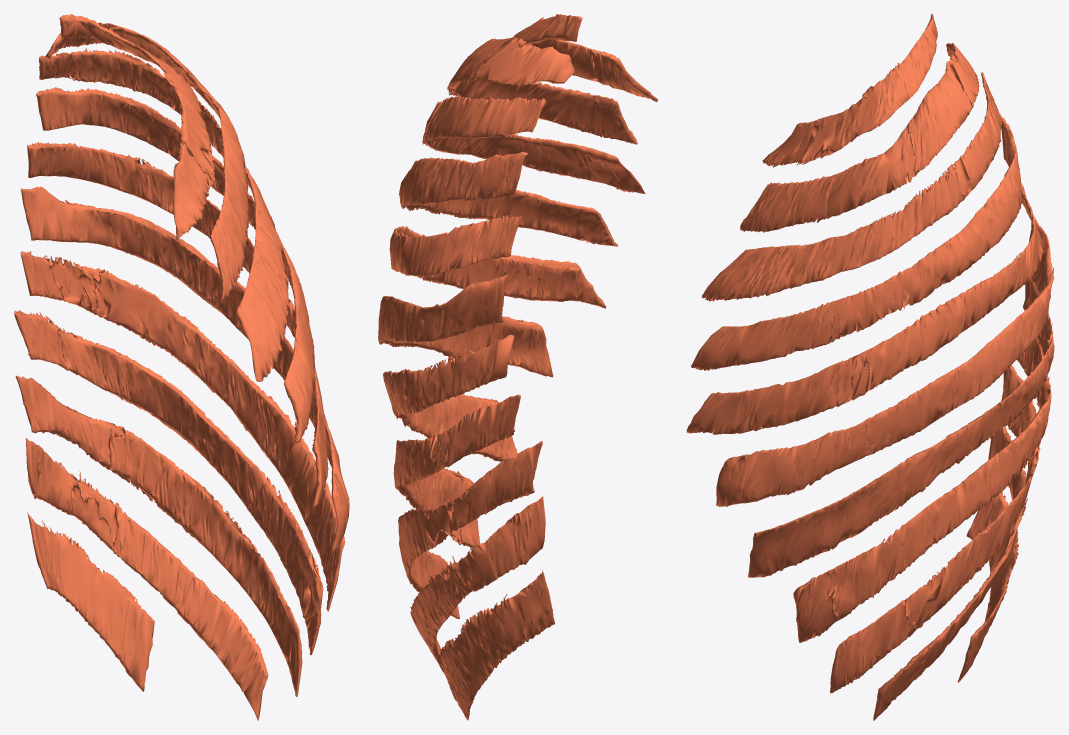
Rendered from External_intercostal_muscles.l_Generated_Mesh_From_X3D.879.glb.
The picture shows the model from 3 angles, left to right: view 1: azimuth 30°, elevation 25°; view 2: azimuth 150°, elevation 25°; view 3: azimuth 270°, elevation 25°; orthographic projection. The views are drawn at different scales.
Visible parts, largest first — view 1: External_intercostal_muscles.l_Generated_Mesh_From_X3D.879; view 2: External_intercostal_muscles.l_Generated_Mesh_From_X3D.879; view 3: External_intercostal_muscles.l_Generated_Mesh_From_X3D.879.
Boxes of the visible parts, <box> form: External_intercostal_muscles.l_Generated_Mesh_From_X3D.879: <box>14,14,349,720</box>; External_intercostal_muscles.l_Generated_Mesh_From_X3D.879: <box>378,14,657,720</box>; External_intercostal_muscles.l_Generated_Mesh_From_X3D.879: <box>686,14,1054,720</box>.
Size of the model in its own units: 0.1119 by 0.3721 by 0.1949.
